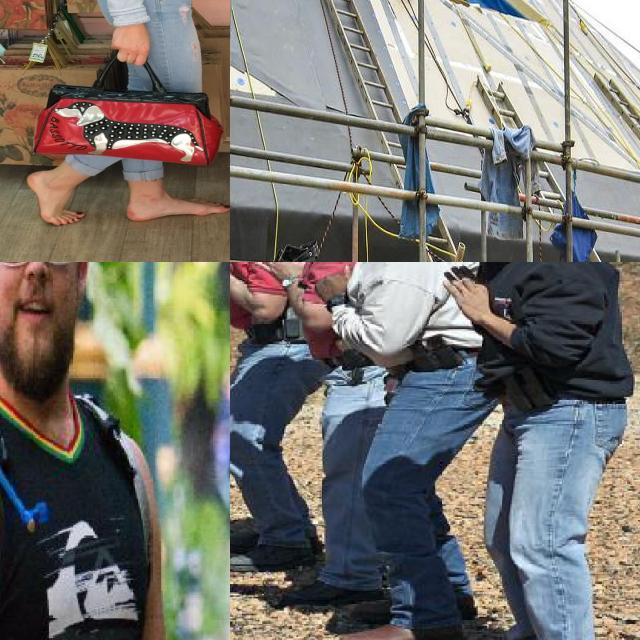Barefoots: (27, 171, 85, 226), (126, 195, 230, 221)
face_nomask: (0, 262, 68, 330)
glasses: (275, 262, 484, 640), (440, 262, 633, 640), (230, 262, 317, 571)
hand_noglove: (435, 262, 494, 323), (252, 262, 312, 285)
person: (0, 262, 168, 640)
shoes: (280, 572, 382, 608), (334, 614, 470, 640), (230, 533, 317, 572)
